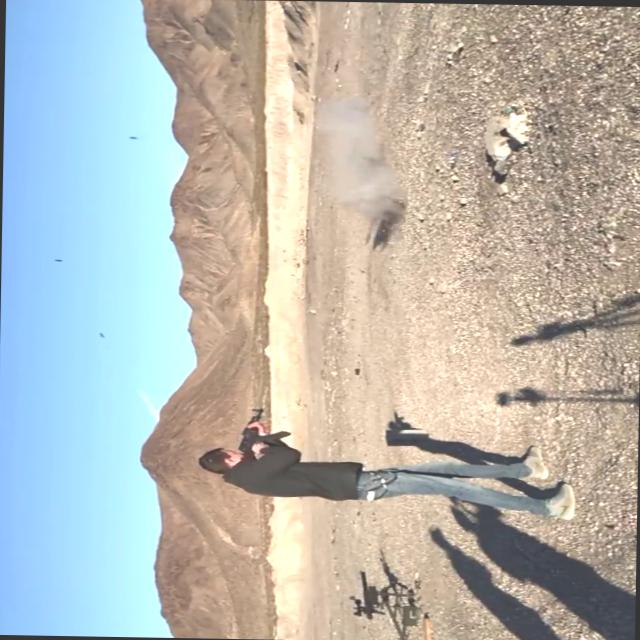long weapon: (226, 396, 299, 470), (348, 558, 422, 621)
